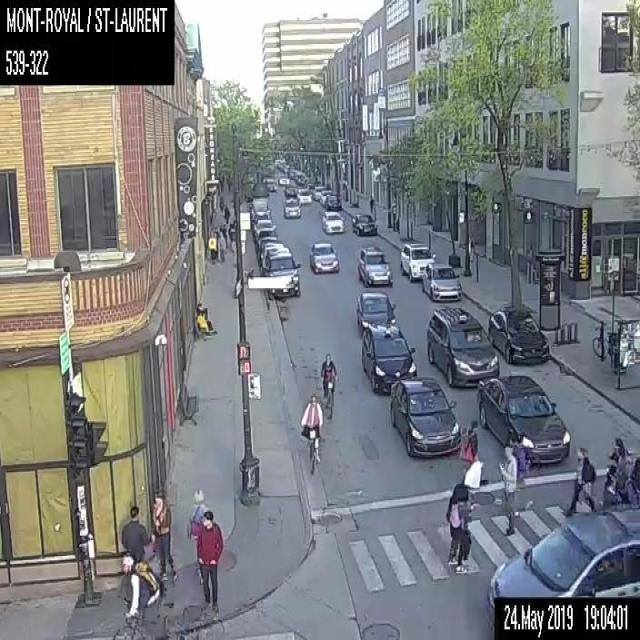cyclist: (299, 392, 323, 471), (320, 351, 337, 419)
pedestrian: (121, 503, 160, 620), (196, 508, 223, 611), (149, 488, 177, 581), (566, 444, 598, 512), (185, 490, 208, 584), (497, 443, 519, 537), (450, 489, 474, 573), (444, 483, 466, 568), (607, 437, 630, 491), (461, 419, 480, 483), (196, 301, 217, 336), (627, 455, 639, 504), (603, 474, 619, 508), (217, 230, 226, 262), (211, 225, 219, 258), (208, 231, 216, 263), (228, 222, 236, 253), (220, 223, 227, 247), (223, 203, 229, 223), (368, 195, 374, 212), (226, 175, 231, 191), (219, 196, 223, 212), (219, 175, 223, 191)
vehicle: (481, 505, 639, 632), (476, 374, 570, 468), (426, 306, 498, 388), (388, 376, 461, 456), (360, 320, 416, 393), (487, 307, 549, 364), (264, 251, 301, 300), (356, 290, 396, 334), (421, 262, 464, 301), (399, 240, 436, 280), (357, 244, 391, 287), (309, 240, 338, 273), (350, 211, 376, 236), (262, 245, 289, 269), (260, 241, 283, 265), (321, 210, 345, 233), (253, 218, 276, 240), (256, 228, 277, 250), (248, 197, 271, 216), (283, 196, 300, 218), (251, 210, 269, 227), (324, 193, 341, 209), (282, 180, 298, 197), (296, 187, 312, 203), (319, 189, 332, 205), (312, 185, 325, 199), (262, 177, 276, 190), (302, 176, 314, 188), (294, 171, 305, 184), (305, 183, 316, 195), (278, 174, 289, 184), (278, 160, 286, 169), (282, 164, 290, 172), (288, 169, 296, 177), (286, 165, 293, 174), (274, 158, 280, 166)
